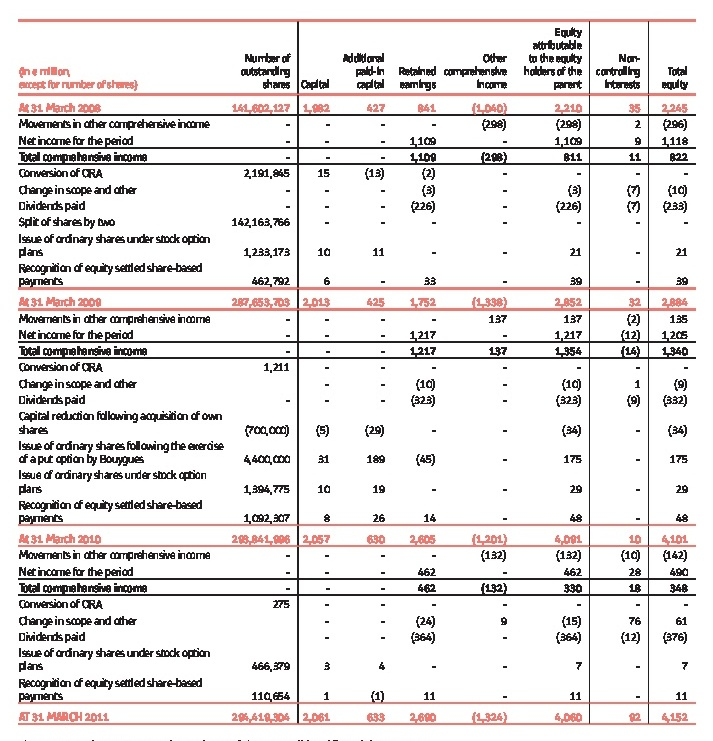table: (0, 0, 713, 741)
